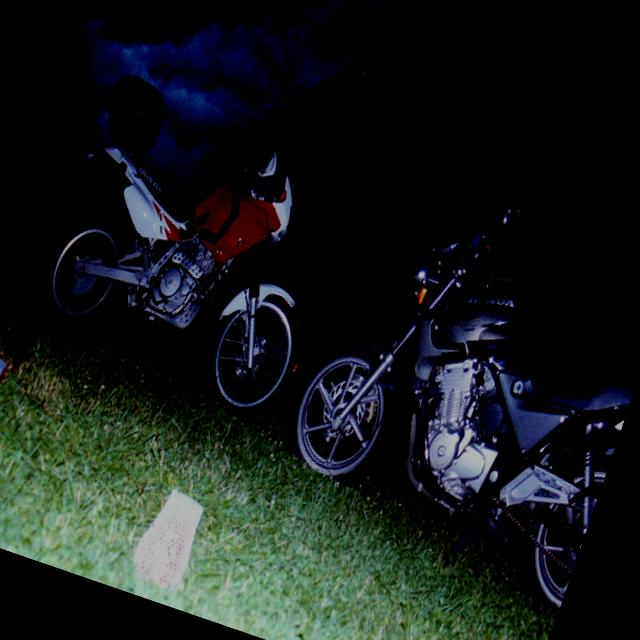Vehicle: (256, 150, 640, 611), (21, 72, 368, 430)
